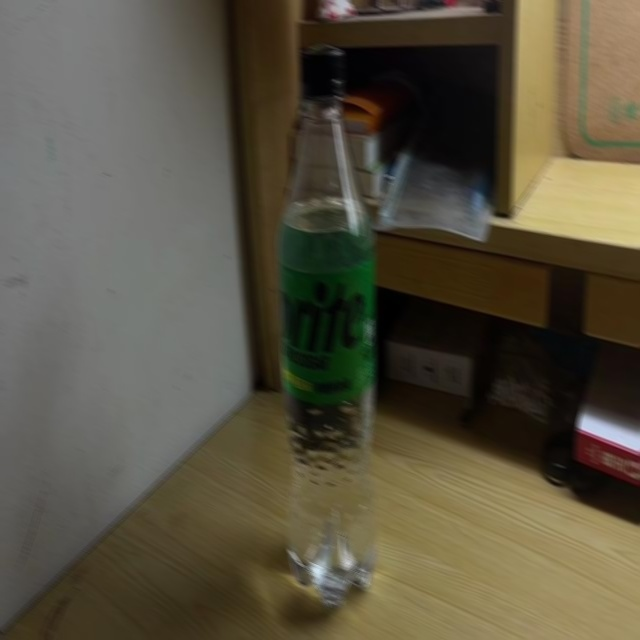Sprite: (276, 46, 378, 609)
